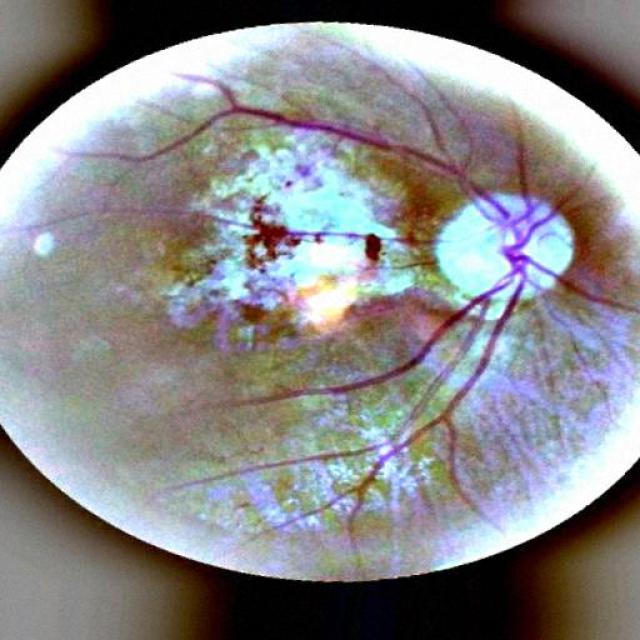Optic Disk: (106, 74, 639, 492), (435, 192, 574, 301)
